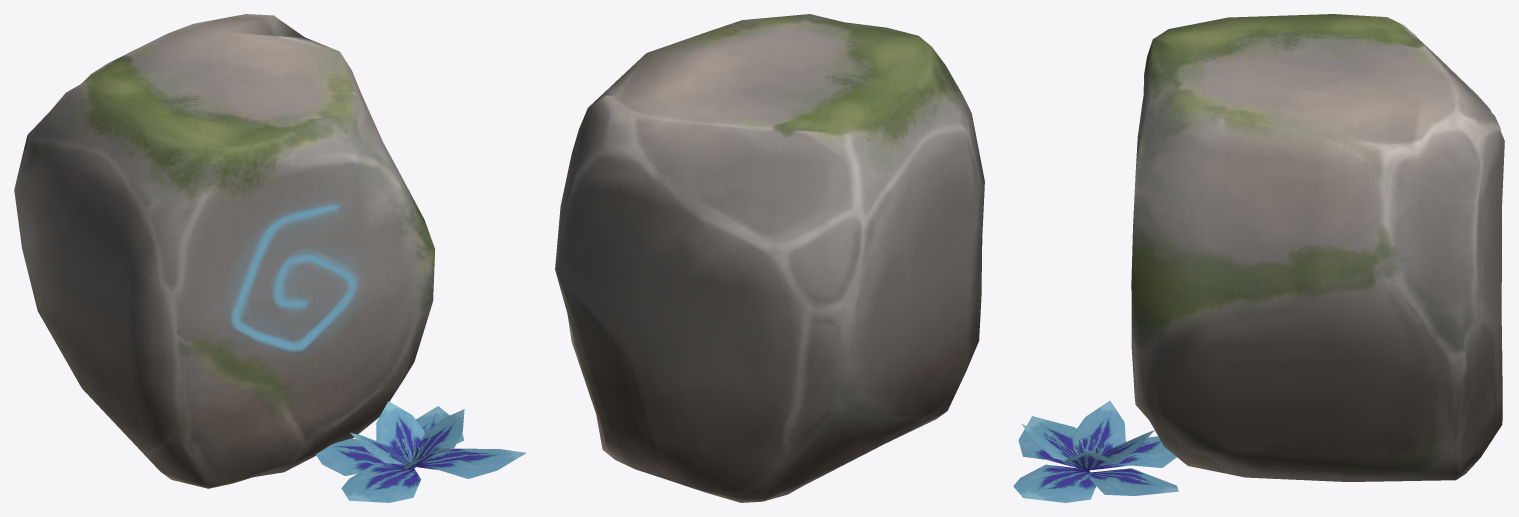
File: rock1.fbx
The picture shows the model from 3 angles, left to right: view 1: azimuth 30°, elevation 25°; view 2: azimuth 150°, elevation 25°; view 3: azimuth 270°, elevation 25°; orthographic projection. The views are drawn at different scales.
Parts seen in each view (by area): view 1: Rock_LOD0, hoa.001; view 2: Rock_LOD0; view 3: Rock_LOD0, hoa.001.
Part boxes in pixels (x1=…): Rock_LOD0: x1=14, y1=14, x2=435, y2=488; hoa.001: x1=315, y1=401, x2=525, y2=502; Rock_LOD0: x1=555, y1=14, x2=984, y2=502; Rock_LOD0: x1=1131, y1=14, x2=1504, y2=481; hoa.001: x1=1013, y1=400, x2=1178, y2=502.
Bounding box in the file's own units: 184 × 193 × 234.
Materials: 2 (2 with a texture image).
